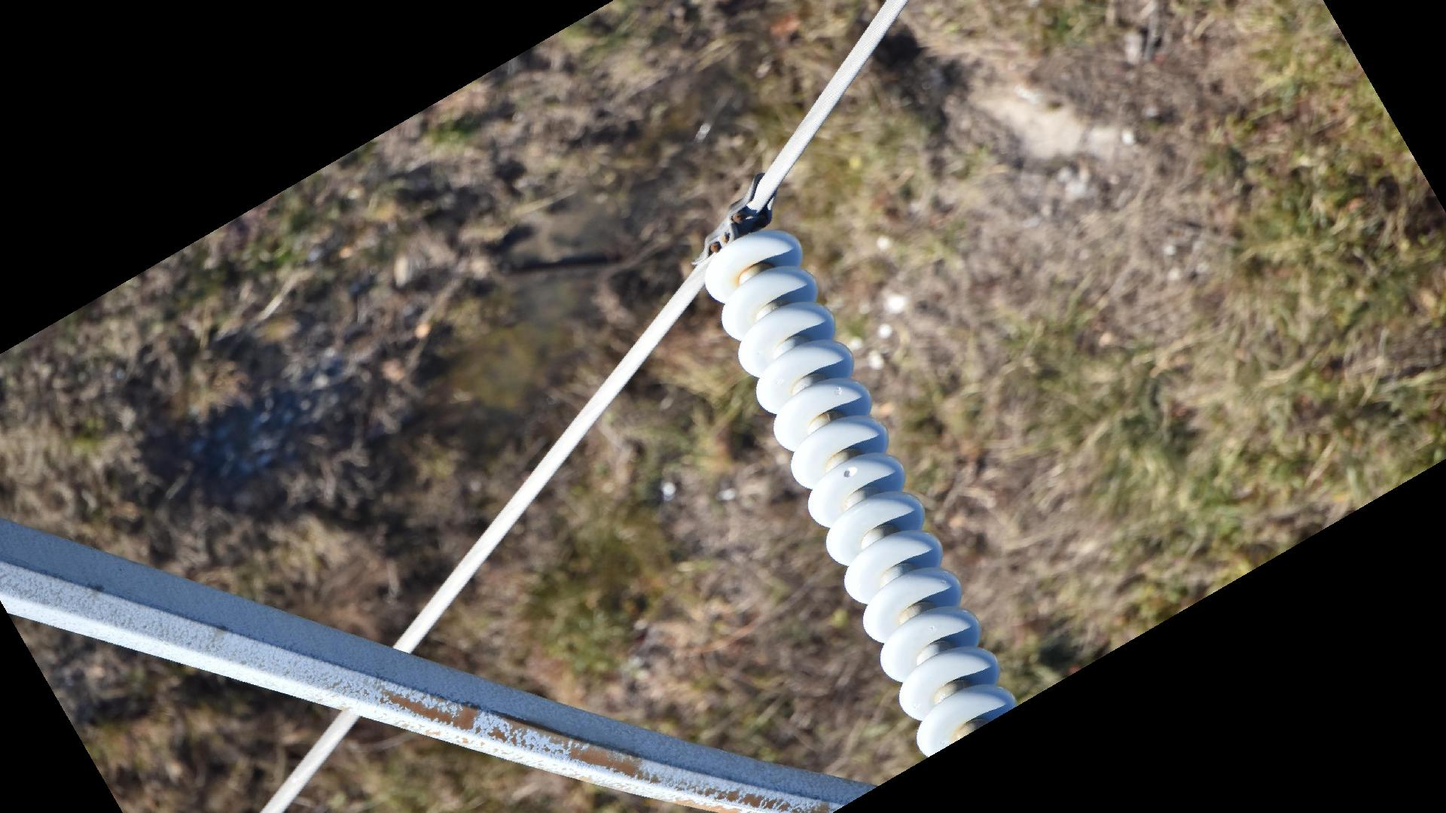insulator: (699, 222, 1022, 758)
insulator_breakage: (840, 464, 861, 481)
